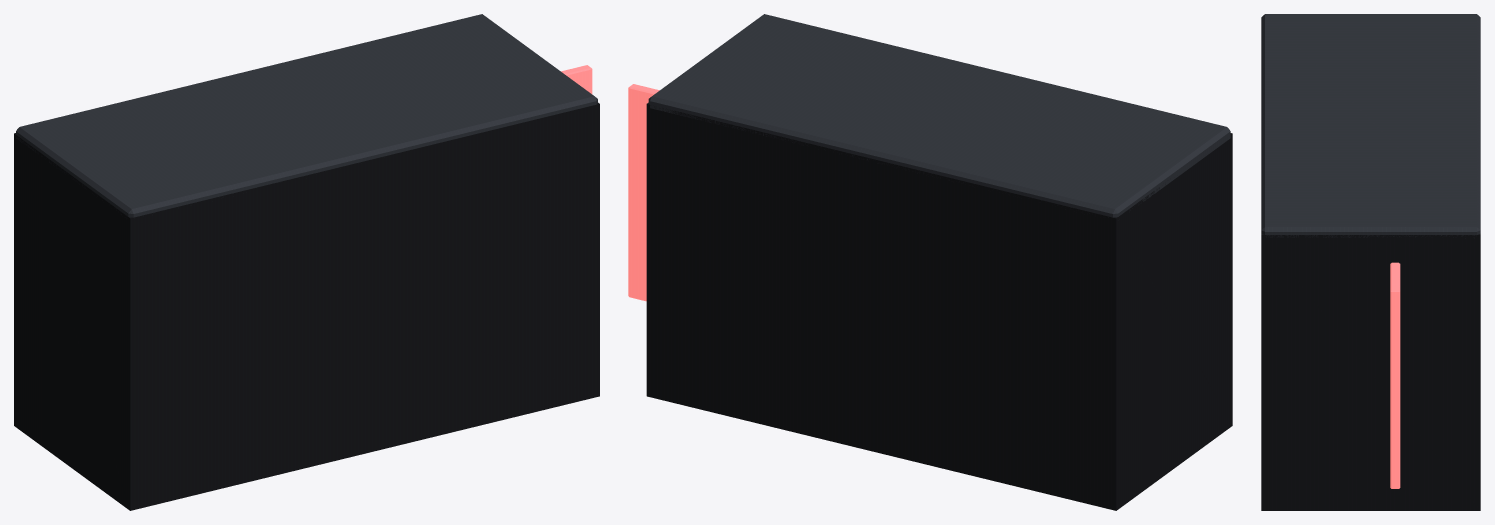
Rendered from kit_bus_shelter.glb.
3 views of the same model, side by side, from view 1: azimuth 30°, elevation 25°; view 2: azimuth 150°, elevation 25°; view 3: azimuth 270°, elevation 25° (orthographic). The views are drawn at different scales.
Parts seen in each view (by area): view 1: bs_COL, bs_roof; view 2: bs_COL, bs_roof, bs_ad; view 3: bs_COL, bs_roof, bs_ad.
Part boxes in pixels (x1,y1,x2,y2): bs_COL: (14, 102, 599, 510); bs_roof: (16, 14, 597, 218); bs_COL: (646, 102, 1232, 510); bs_roof: (648, 14, 1230, 217); bs_ad: (628, 84, 659, 301); bs_COL: (1261, 233, 1480, 510); bs_roof: (1261, 14, 1480, 238); bs_ad: (1390, 262, 1400, 488).
Size of the model in its own units: 4.75 by 2.56 by 1.8.
Materials: 5 (5 with a texture image).
